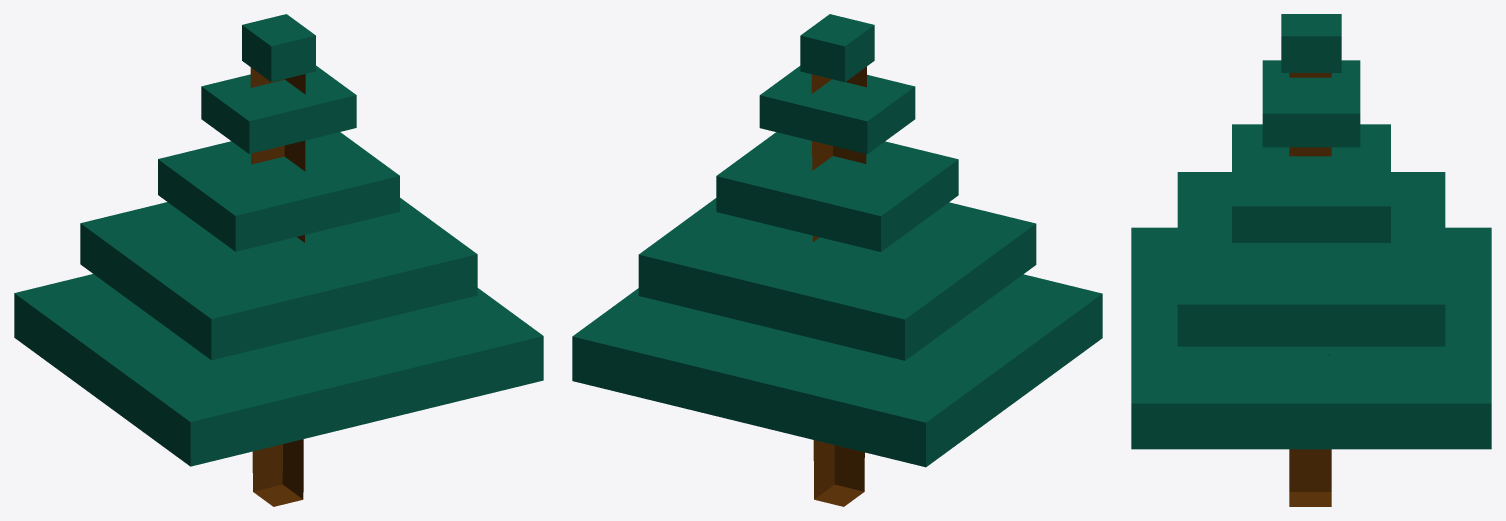
The model's file is tree.glb.
3 views of the same model, side by side, from view 1: azimuth 30°, elevation 25°; view 2: azimuth 150°, elevation 25°; view 3: azimuth 270°, elevation 25° (orthographic). The views are drawn at different scales.
Parts seen in each view (by area): view 1: Cube.003; view 2: Cube.003; view 3: Cube.003.
Boxes of the visible parts, x1,y1,x2,y2 form: Cube.003: (14,14,543,506); Cube.003: (572,14,1102,506); Cube.003: (1131,14,1491,506).
Bounding box in the file's own units: 2 × 2.51 × 1.72.
6 materials, 6 textured.
